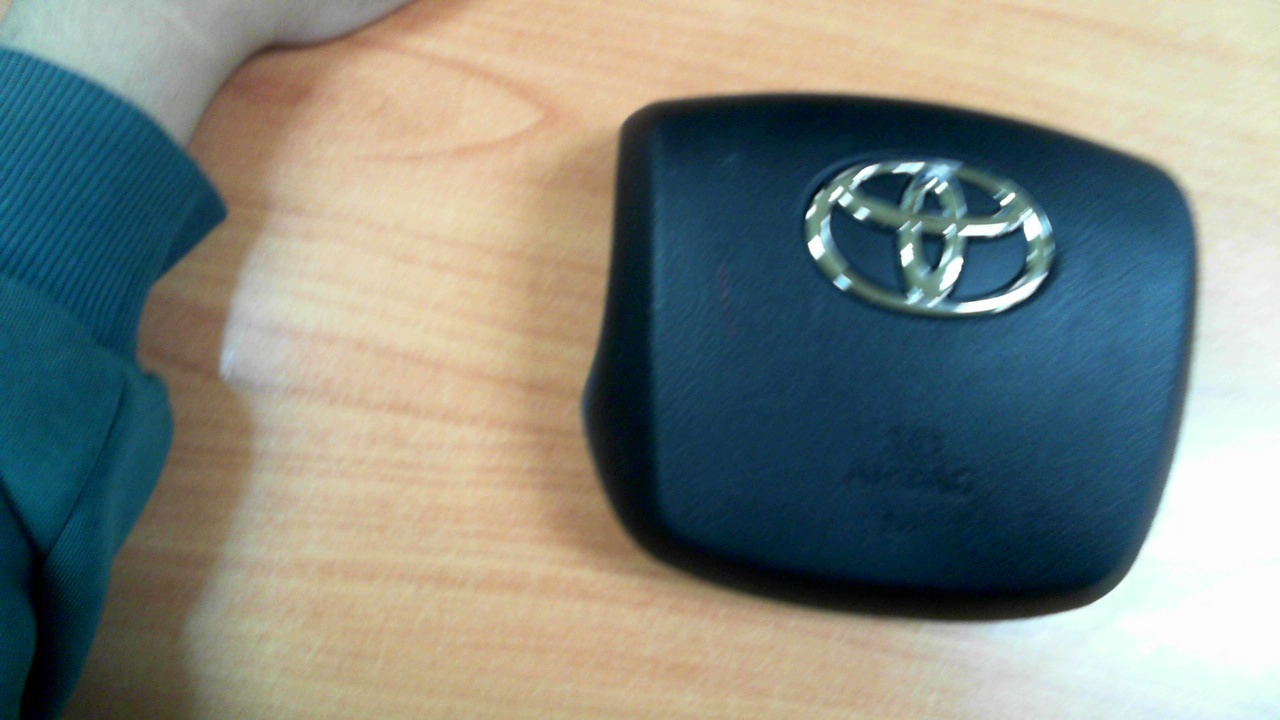Airbag: (580, 92, 1198, 625)
Toyota: (804, 157, 1056, 314)
